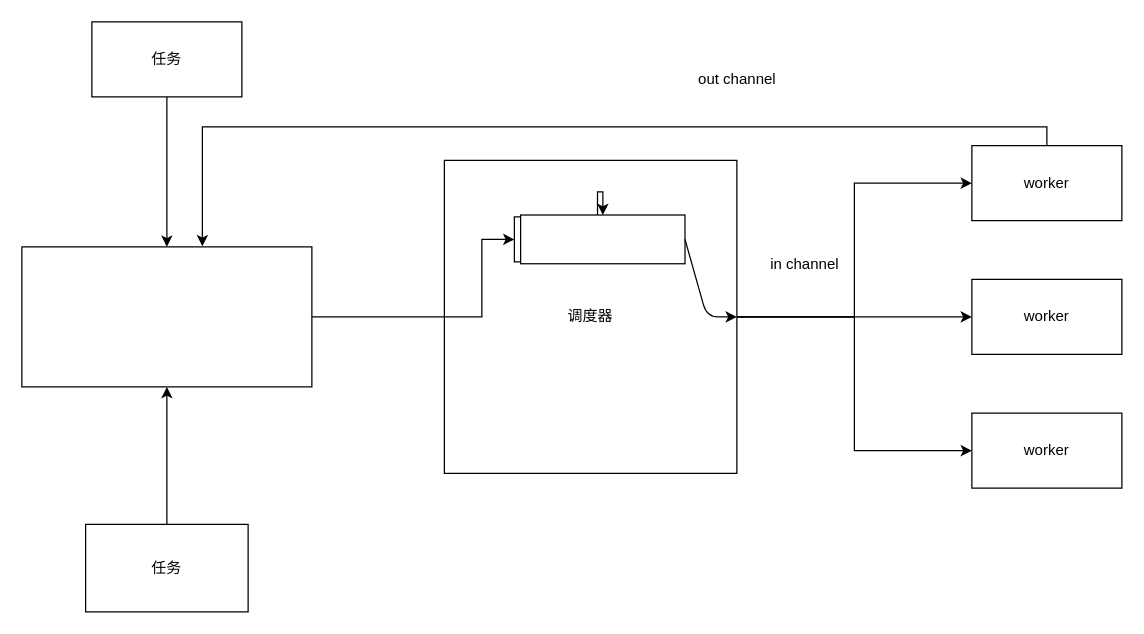
Some shapes in this 1144 by 634 pixel diagram are drawn without their labels. Here are the shapes that lost their labels. From the top down, the centre of each, then its label:
point (602, 239): 分发任务 channel
point (166, 316): Engine
